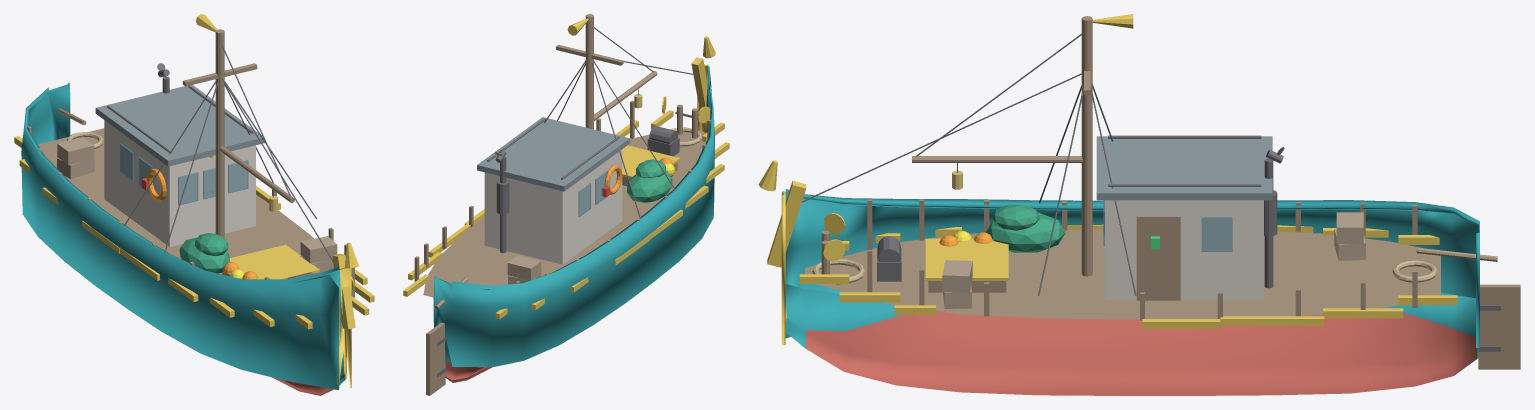
The model's file is prop_indian_dhoni_boat_01.glb.
The picture shows the model from 3 angles, left to right: view 1: azimuth 30°, elevation 25°; view 2: azimuth 150°, elevation 25°; view 3: azimuth 270°, elevation 25°; orthographic projection. The views are drawn at different scales.
Visible parts, largest first — view 1: Boat_Hull, Boat_Wheelhouse_Cabin, Boat_Cabin_Roof, Boat_Deck, Boat_Rub_Rails, Boat_Main_Mast, Boat_Hatch_Cover, Boat_Fishing_Nets_01, Boat_Fish_Crate_3, Boat_Fish_Crate_1, Boat_Bow_Stempost, Boat_Fishing_Nets_02 (+11 smaller); view 2: Boat_Hull, Boat_Wheelhouse_Cabin, Boat_Cabin_Roof, Boat_Deck, Boat_Rub_Rails, Boat_Rudder_Blade, Boat_Fishing_Nets_01, Boat_Main_Mast, Boat_Internal_Ribs, Boat_Hatch_Cover, Boat_Fish_Crate_3, Boat_Bow_Stempost (+9 smaller); view 3: Boat_Hull, Boat_Deck, Boat_Wheelhouse_Cabin, Boat_Cabin_Roof, Boat_Rub_Rails, Boat_Door_Starboard, Boat_Rudder_Blade, Boat_Main_Mast, Boat_Internal_Ribs, Boat_Hatch_Cover, Boat_Fishing_Nets_01, Boat_Bow_Stempost (+6 smaller).
Boxes of the visible parts, box(x1,y1,x2,y2) form: Boat_Hull: box(21, 82, 351, 395); Boat_Wheelhouse_Cabin: box(104, 120, 255, 246); Boat_Cabin_Roof: box(95, 85, 264, 166); Boat_Deck: box(38, 128, 313, 274); Boat_Rub_Rails: box(14, 136, 374, 329); Boat_Main_Mast: box(215, 29, 224, 237); Boat_Hatch_Cover: box(229, 244, 319, 279); Boat_Fishing_Nets_01: box(179, 237, 229, 273); Boat_Fish_Crate_3: box(57, 137, 94, 165); Boat_Fish_Crate_1: box(300, 236, 337, 263); Boat_Bow_Stempost: box(332, 253, 355, 329); Boat_Fishing_Nets_02: box(195, 233, 228, 256); Boat_Hull: box(433, 64, 714, 382); Boat_Wheelhouse_Cabin: box(484, 149, 622, 264); Boat_Cabin_Roof: box(477, 117, 629, 191); Boat_Deck: box(423, 130, 705, 297); Boat_Rub_Rails: box(403, 110, 729, 319); Boat_Rudder_Blade: box(426, 322, 445, 395); Boat_Fishing_Nets_01: box(627, 171, 672, 203); Boat_Main_Mast: box(585, 14, 593, 129); Boat_Internal_Ribs: box(414, 100, 711, 283); Boat_Hatch_Cover: box(622, 145, 680, 178); Boat_Fish_Crate_3: box(507, 255, 541, 280); Boat_Bow_Stempost: box(691, 57, 705, 107); Boat_Hull: box(781, 189, 1479, 395); Boat_Deck: box(805, 229, 1440, 319); Boat_Wheelhouse_Cabin: box(1105, 200, 1263, 299); Boat_Cabin_Roof: box(1096, 136, 1272, 200); Boat_Rub_Rails: box(799, 224, 1457, 328); Boat_Door_Starboard: box(1136, 216, 1180, 300); Boat_Rudder_Blade: box(1478, 284, 1520, 369); Boat_Main_Mast: box(1081, 16, 1092, 276); Boat_Internal_Ribs: box(867, 199, 1417, 320); Boat_Hatch_Cover: box(925, 238, 1008, 280); Boat_Fishing_Nets_01: box(985, 212, 1065, 252); Boat_Bow_Stempost: box(767, 180, 806, 267).
Size of what is drawn, in the model's own units: 3.6 by 6.49 by 11.74.
